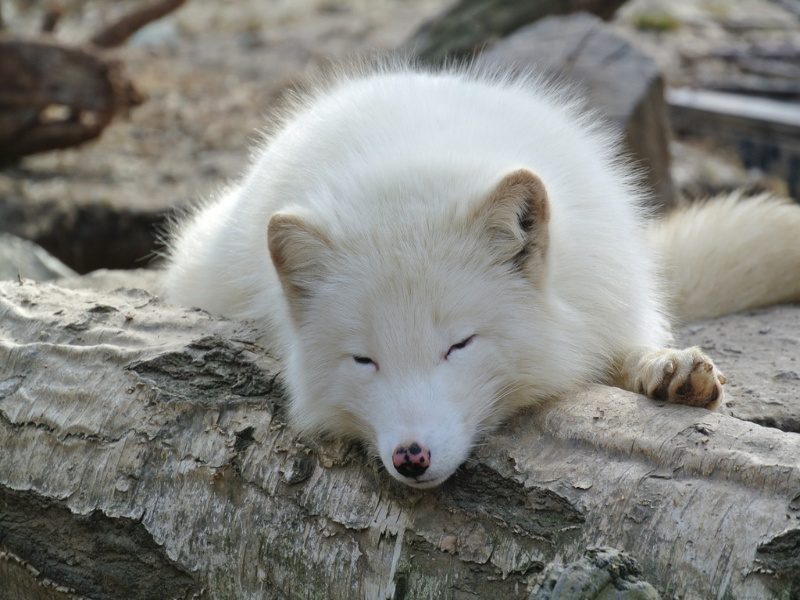fox: (161, 61, 796, 501)
